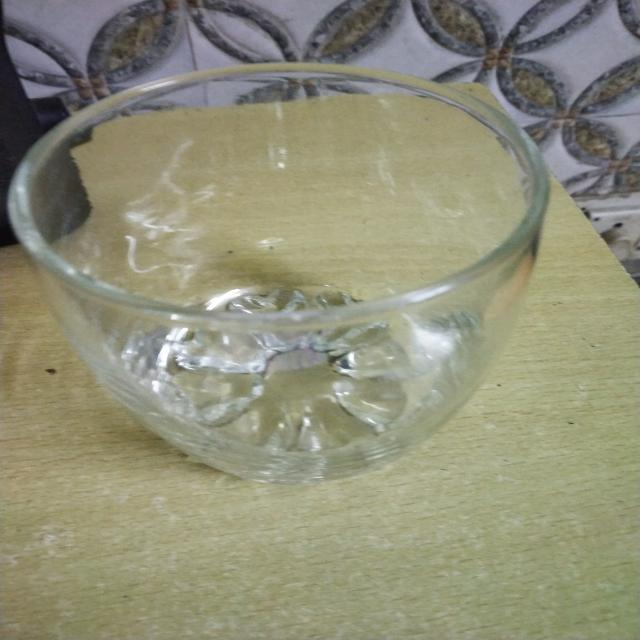Glass: (3, 59, 556, 490)
